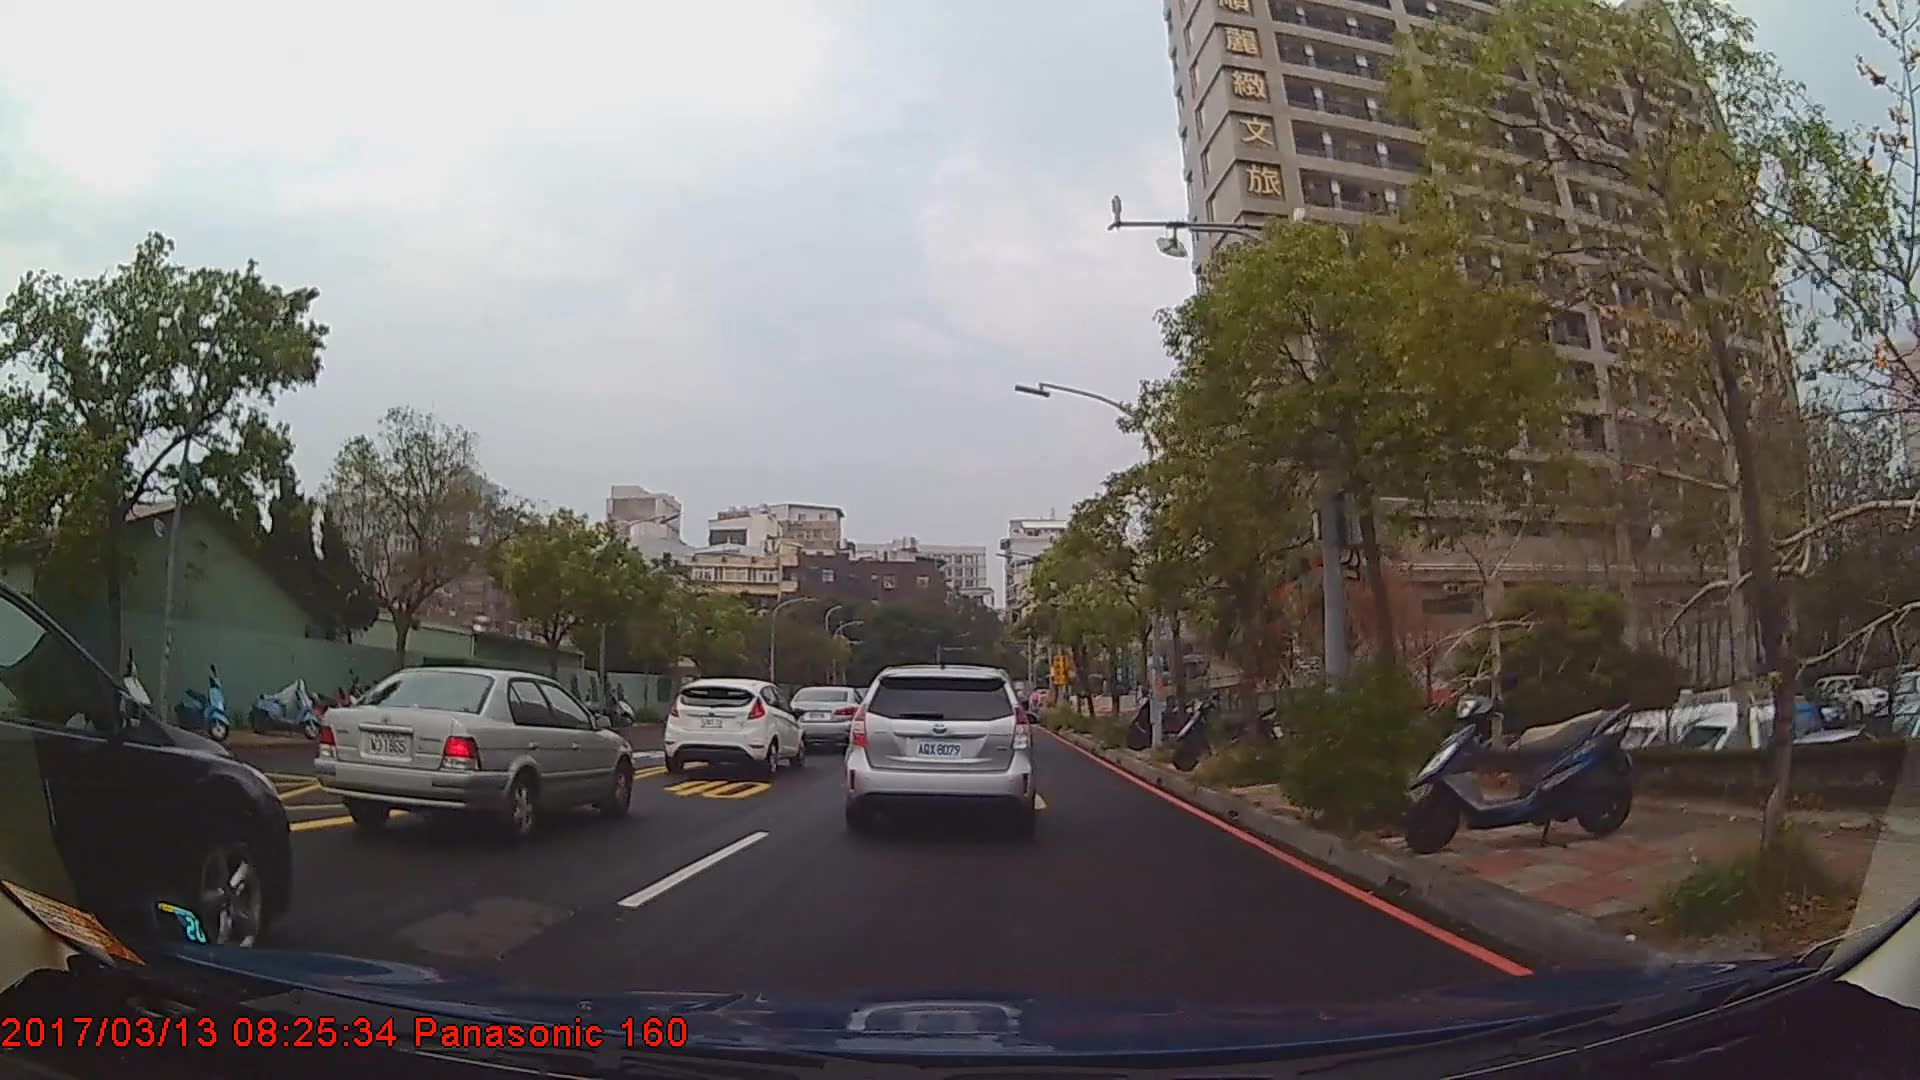vehicle: (0, 582, 291, 967), (313, 667, 634, 844), (841, 665, 1033, 828), (663, 678, 804, 775), (785, 684, 869, 749)
